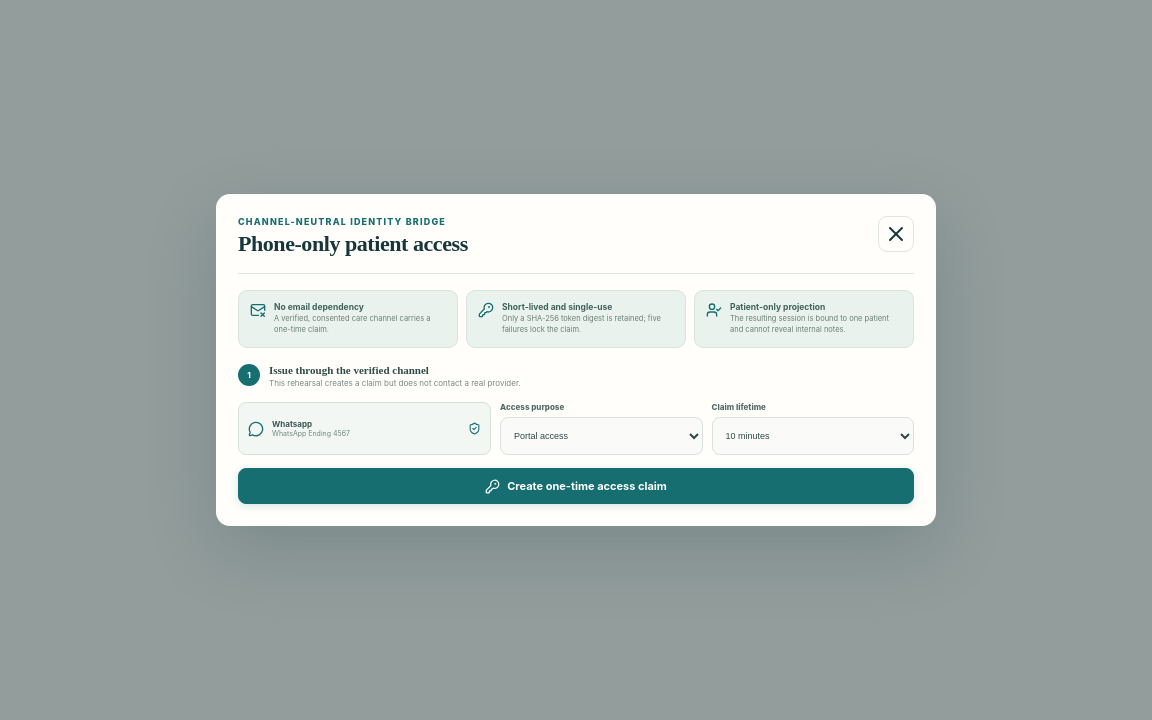
Test: claim issue and verification failures remain explicit without fabricating access
The width and height of the screenshot is (1152, 720).
Click the button "Create one-time access claim" at (576, 486), box [238,468,914,504]
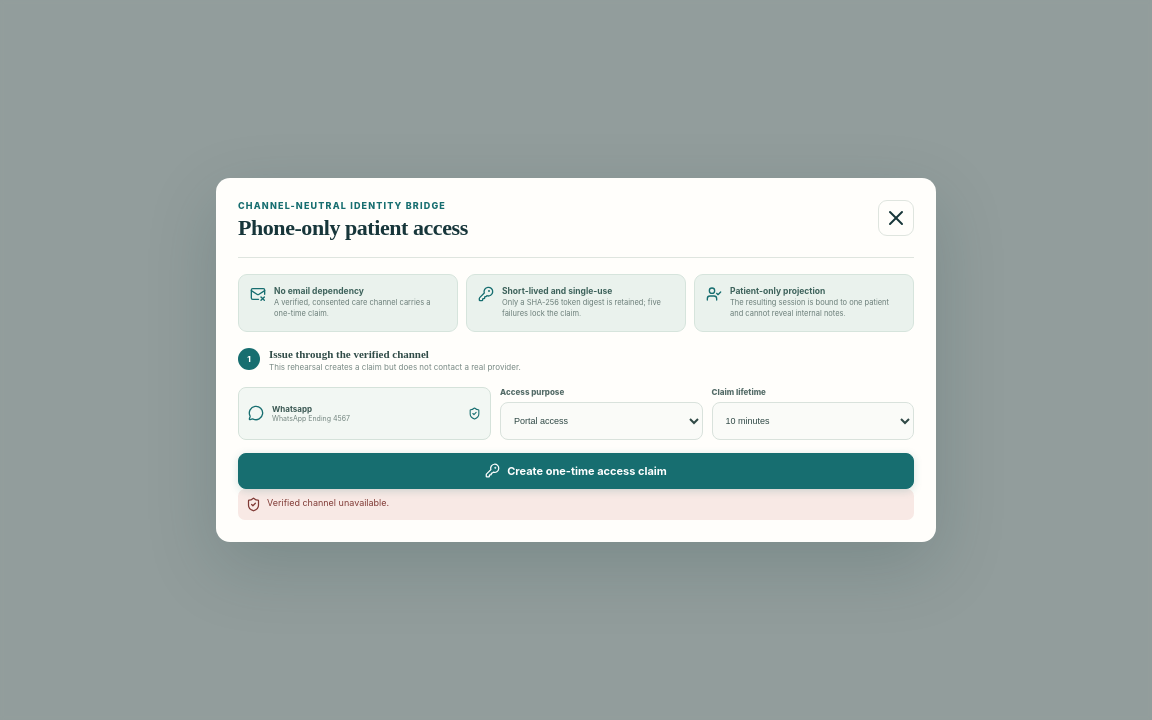
Expected: the message reads "Verified channel unavailable.", [267,497,389,508]
